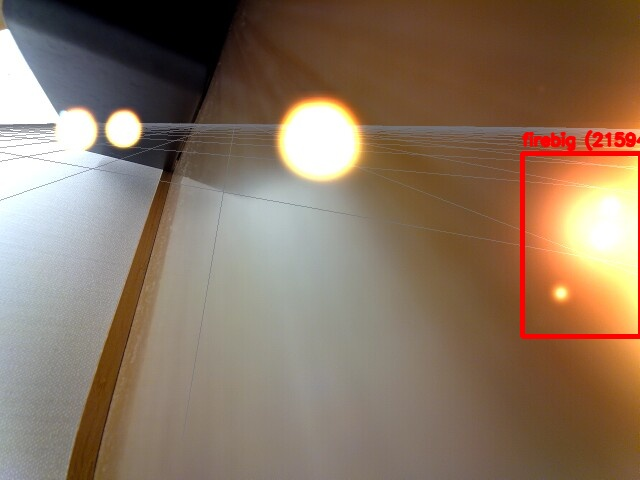firebig: (522, 153, 640, 336)
